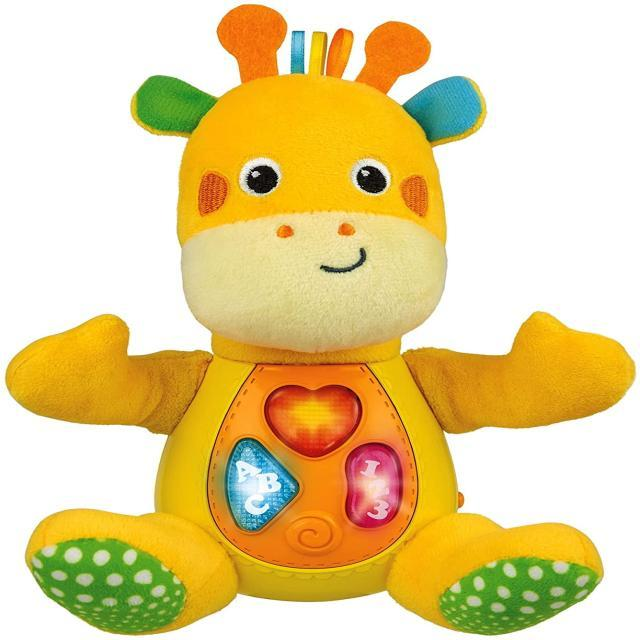soft-toy: (8, 5, 634, 634)
